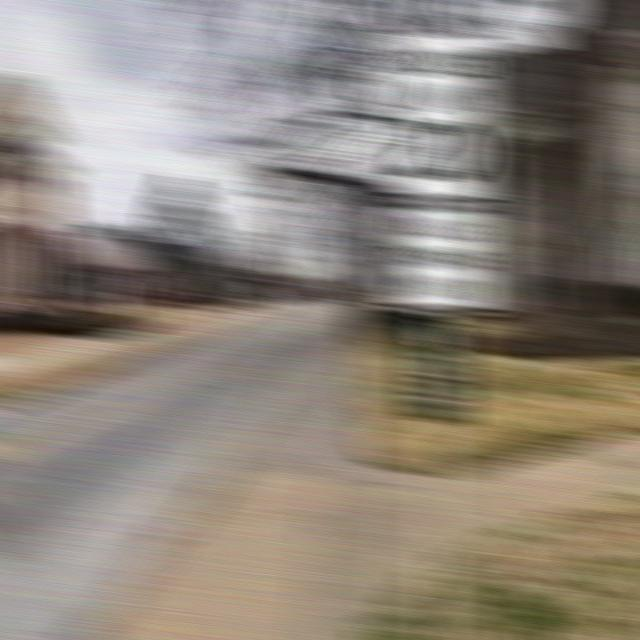speedLimit20: (382, 33, 493, 205)
